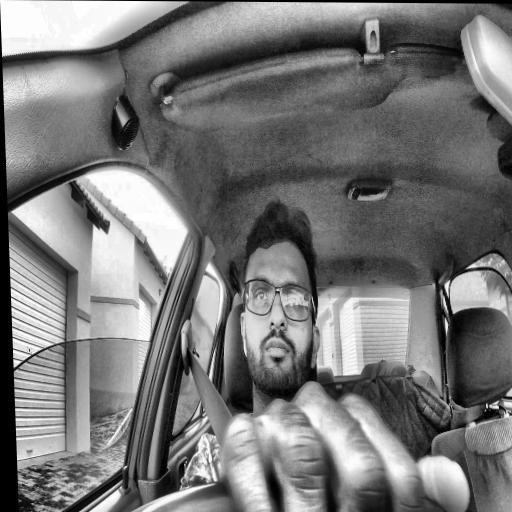awake: (235, 197, 323, 401)
